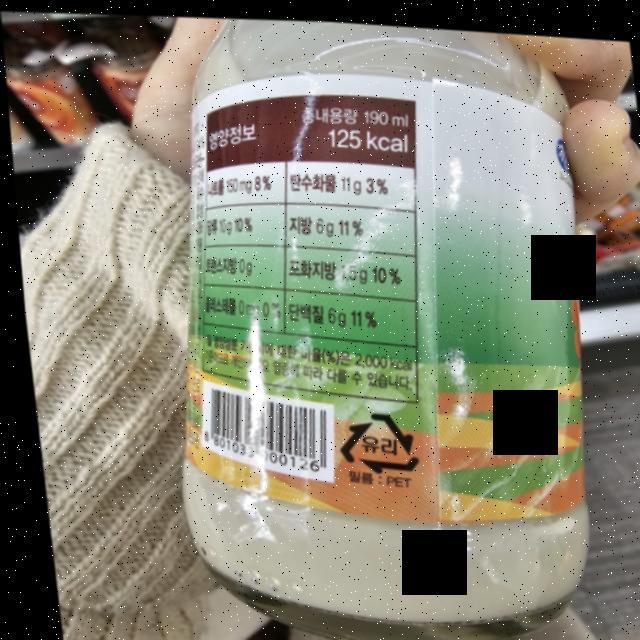Glass: (327, 402, 413, 473)
